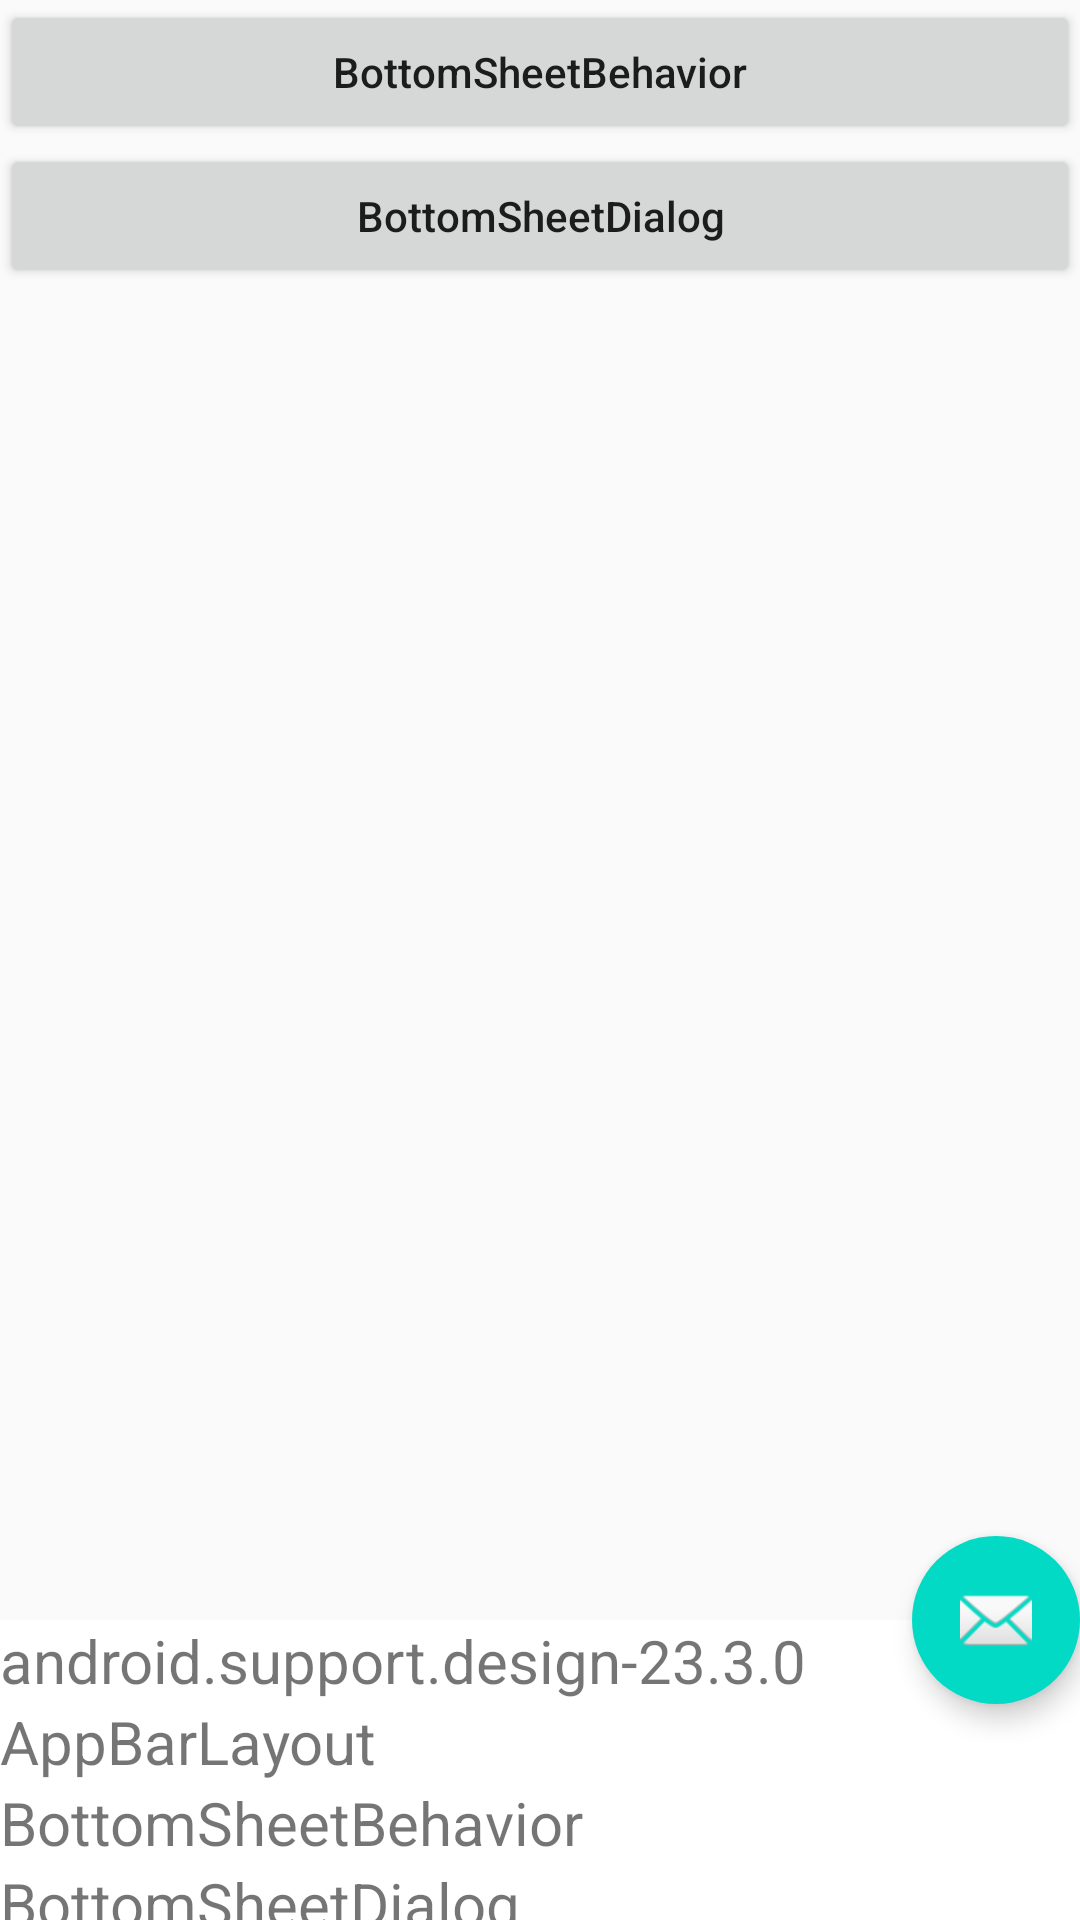

Named icons in this screenshot (1080*1920) and their centers, (x=x, y=y):
email: (x=996, y=1620)
